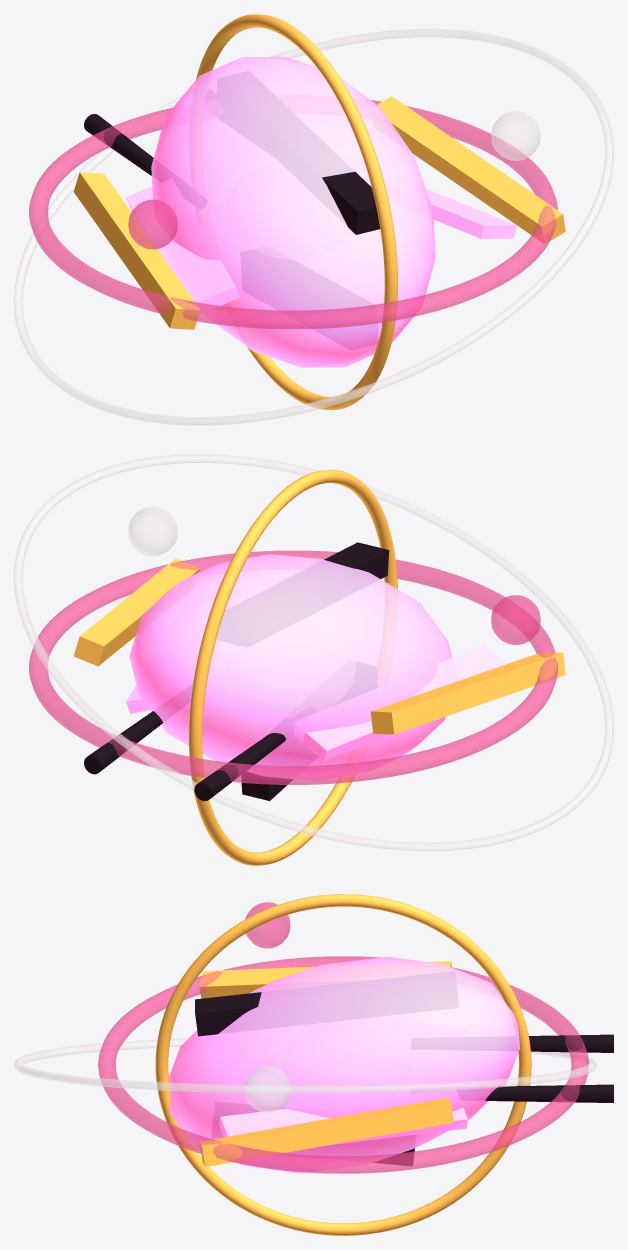
The model's file is glass-echo-prime.glb.
3 views of the same model, one above another, from view 1: azimuth 30°, elevation 25°; view 2: azimuth 150°, elevation 25°; view 3: azimuth 270°, elevation 25° (orthographic). The views are drawn at different scales.
Parts seen in each view (by area): view 1: large shard core, wide boss halo, rear unstable phase ring, canted gold prison ring, gold arrestor spar 1, gold arrestor spar -1, heavy blade wing -1, black crown spine, heavy blade wing 1, flanking reactor bead -1, flanking reactor bead 1, boss burst lance -1; view 2: large shard core, wide boss halo, rear unstable phase ring, canted gold prison ring, gold arrestor spar -1, gold arrestor spar 1, heavy blade wing -1, flanking reactor bead -1, flanking reactor bead 1, boss burst lance -1, boss burst lance 1, black crown spine (+1 smaller); view 3: large shard core, wide boss halo, canted gold prison ring, rear unstable phase ring, gold arrestor spar 1, heavy blade wing 1, gold arrestor spar -1, boss burst lance 1, black crown spine, flanking reactor bead 1, boss burst lance -1, flanking reactor bead -1.
Boxes of the visible parts, x1,y1,x2,y2 form: large shard core: (151,56,435,367); wide boss halo: (29,100,557,329); rear unstable phase ring: (14,28,613,425); canted gold prison ring: (196,14,397,410); gold arrestor spar 1: (377,96,565,243); gold arrestor spar -1: (73,172,200,329); heavy blade wing -1: (126,186,239,313); black crown spine: (322,171,380,234); heavy blade wing 1: (426,188,516,238); flanking reactor bead -1: (128,199,177,249); flanking reactor bead 1: (491,111,540,160); boss burst lance -1: (84,114,153,175); large shard core: (129,554,452,780); wide boss halo: (29,550,557,784); rear unstable phase ring: (14,454,613,851); canted gold prison ring: (189,469,397,865); gold arrestor spar -1: (370,652,565,734); gold arrestor spar 1: (73,558,199,666); heavy blade wing -1: (302,645,505,760); flanking reactor bead -1: (491,595,540,644); flanking reactor bead 1: (128,506,177,556); boss burst lance -1: (194,733,285,801); boss burst lance 1: (84,711,162,774); black crown spine: (324,542,389,578); large shard core: (168,956,519,1173); wide boss halo: (98,956,588,1173); canted gold prison ring: (155,894,531,1235); rear unstable phase ring: (14,1038,596,1093); gold arrestor spar 1: (199,1097,453,1166); heavy blade wing 1: (219,1107,467,1145); gold arrestor spar -1: (199,961,451,998); boss burst lance 1: (485,1084,613,1102); black crown spine: (195,992,261,1036); flanking reactor bead 1: (245,1066,289,1112); boss burst lance -1: (529,1034,613,1052); flanking reactor bead -1: (245,902,290,948).
Size of the model in its own units: 130 by 88.98 by 142.
